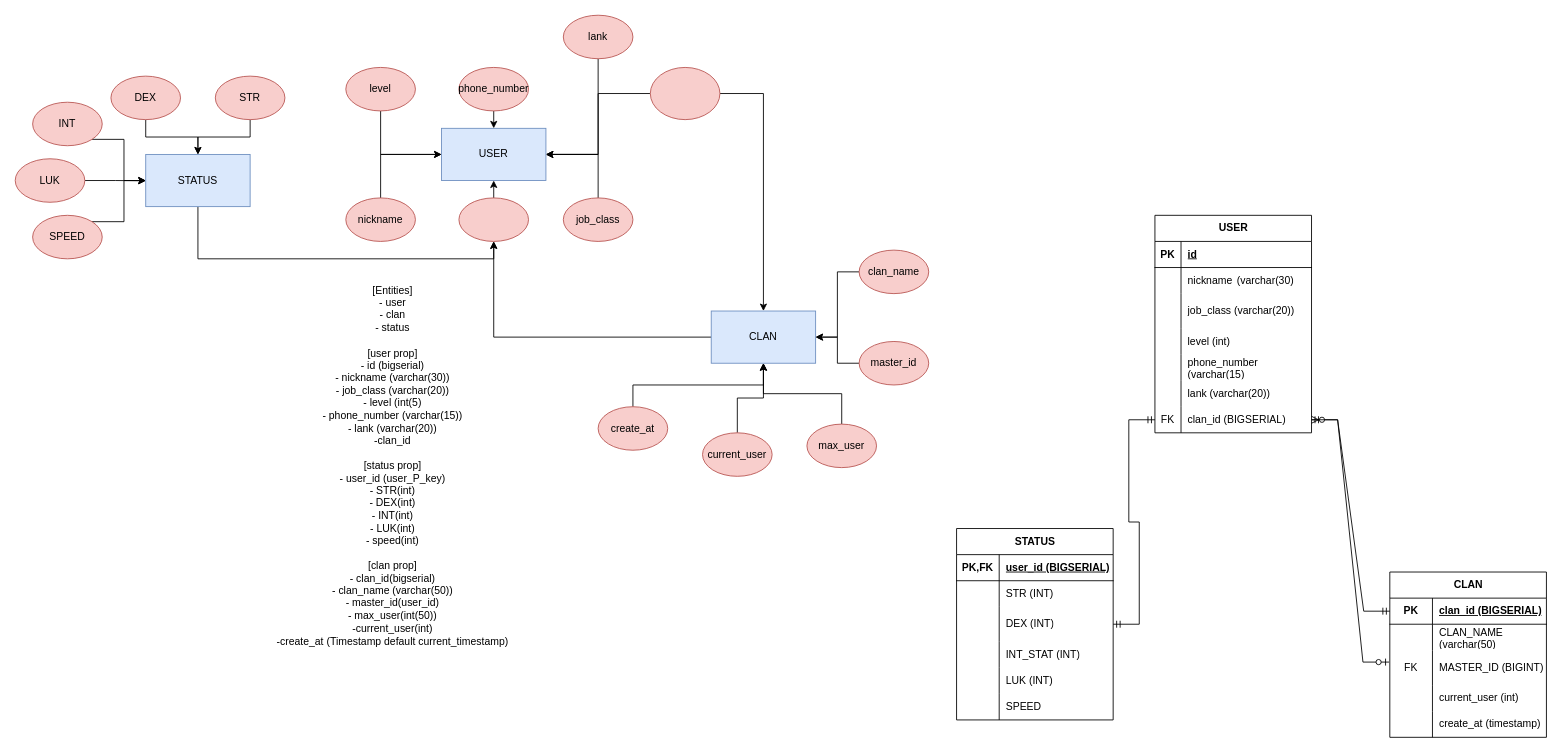
This 1562x753 diagram has some shape labels left out. Here are the shapes that lost their labels. From the top down, the box of each, then its label:
(649, 67, 720, 120): clan_id
(458, 197, 529, 241): user_id
